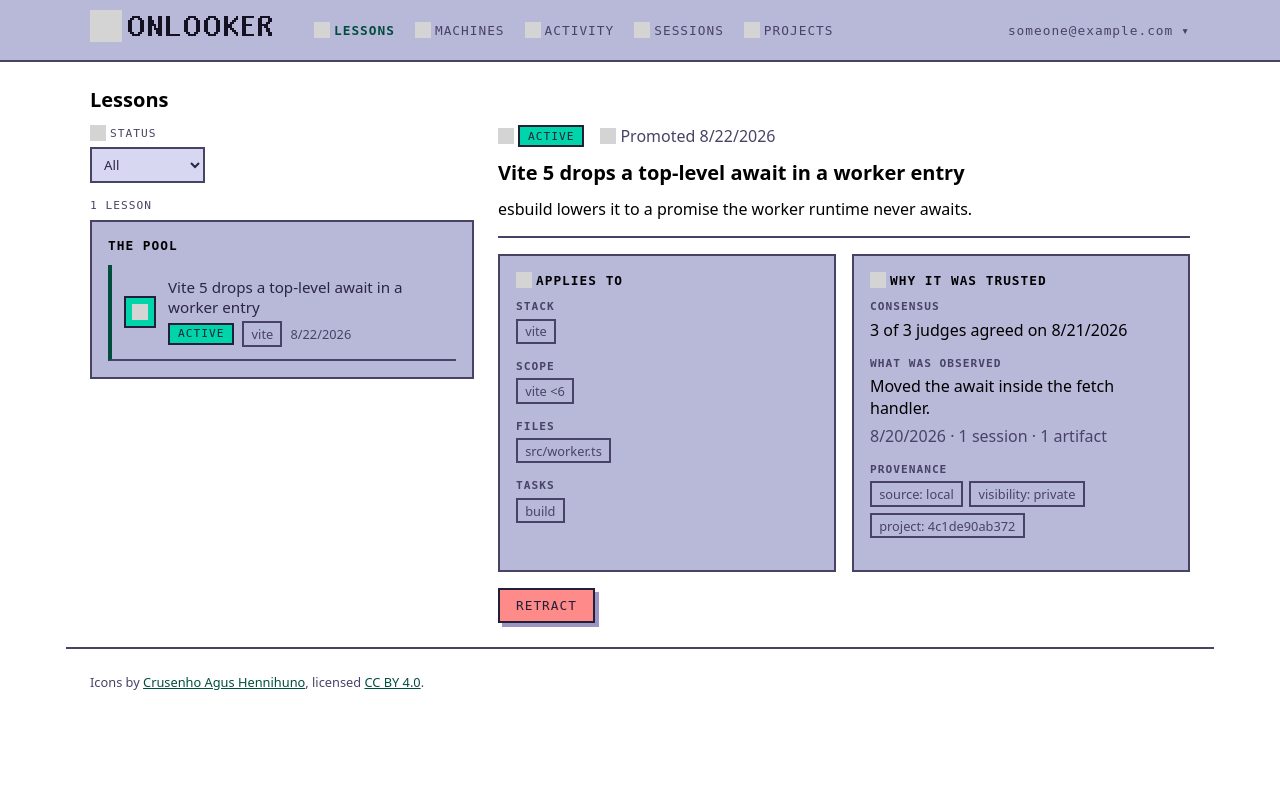
Test case: retract › leaves the lesson untouched when the server refuses
Click the button "Retract" at (546, 606), box [498,588,595,623]
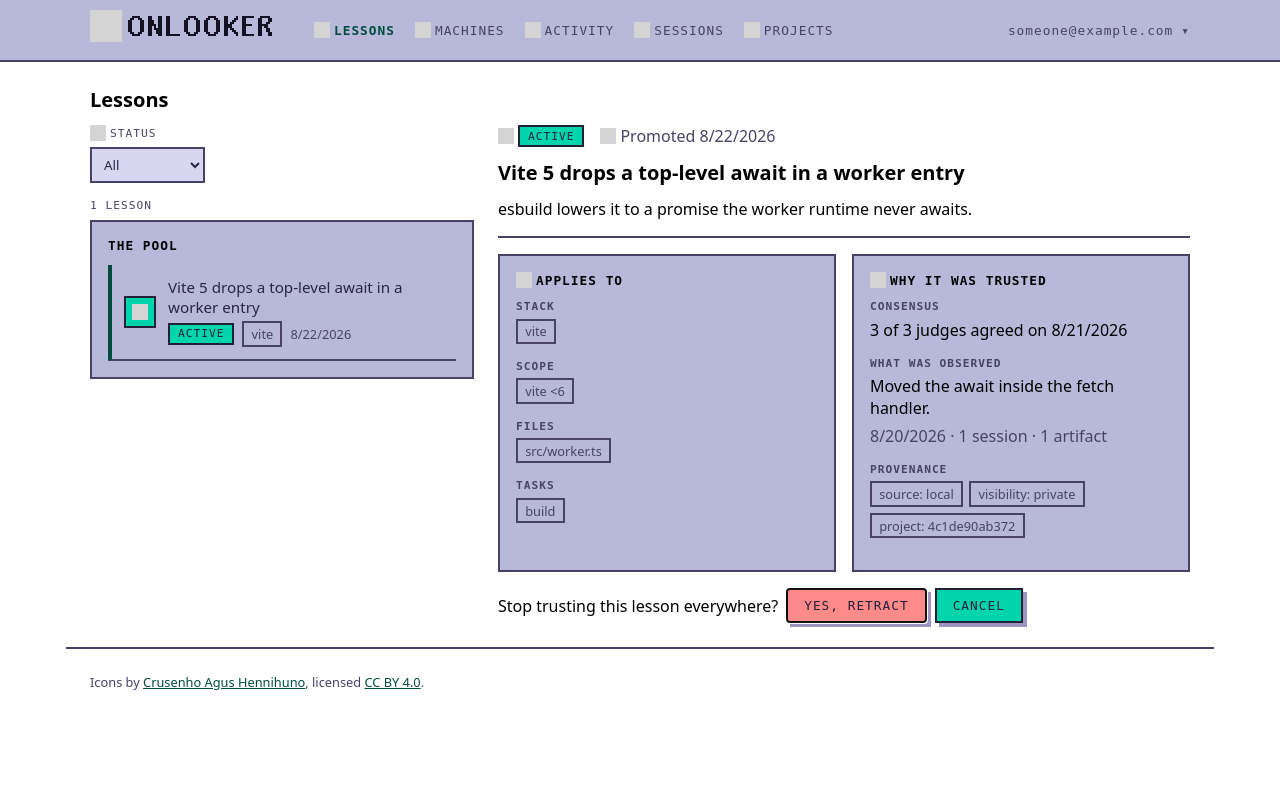
Click the button "Yes, retract" at (856, 606), box [786,588,927,623]
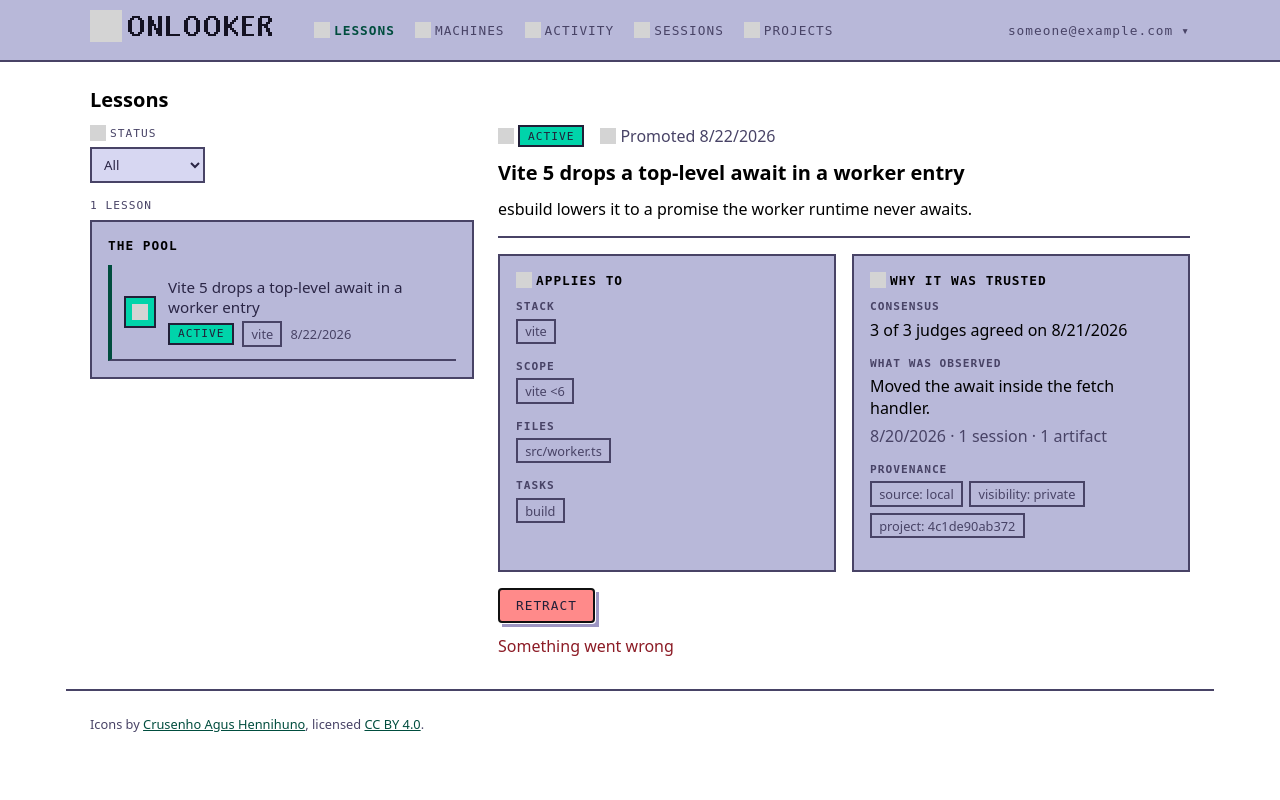
Expected: the text "Active" is shown 2 times, [168,323,234,345]; [518,125,584,147]
Expected: the text "Something went wrong" is shown, [498,635,674,657]
